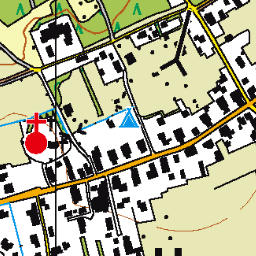church: (21, 109, 50, 156)
